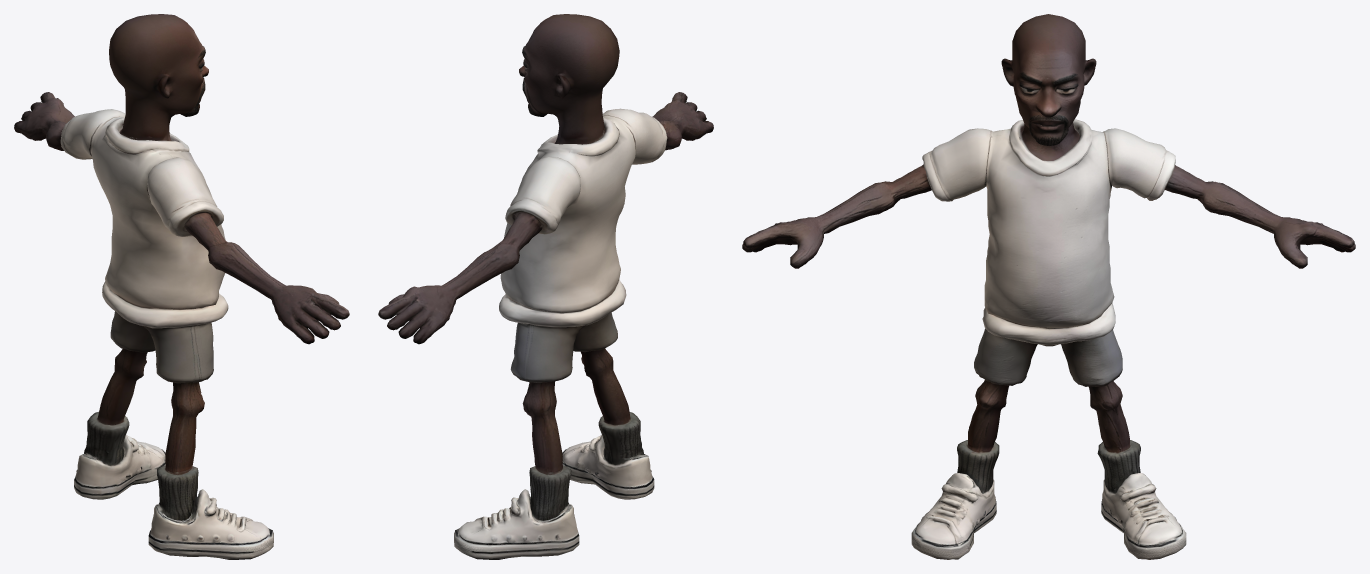
3 views of the same model, side by side, from view 1: azimuth 30°, elevation 25°; view 2: azimuth 150°, elevation 25°; view 3: azimuth 270°, elevation 25° (orthographic).
Parts seen in each view (by area): view 1: tripo_node_4a371158; view 2: tripo_node_4a371158; view 3: tripo_node_4a371158.
Boxes of the visible parts, x1,y1,x2,y2 form: tripo_node_4a371158: [14, 14, 349, 559]; tripo_node_4a371158: [378, 14, 713, 559]; tripo_node_4a371158: [742, 14, 1355, 559].
Bounding box in the file's own units: 20.35 × 91.59 × 100.
1 material, 1 textured.
